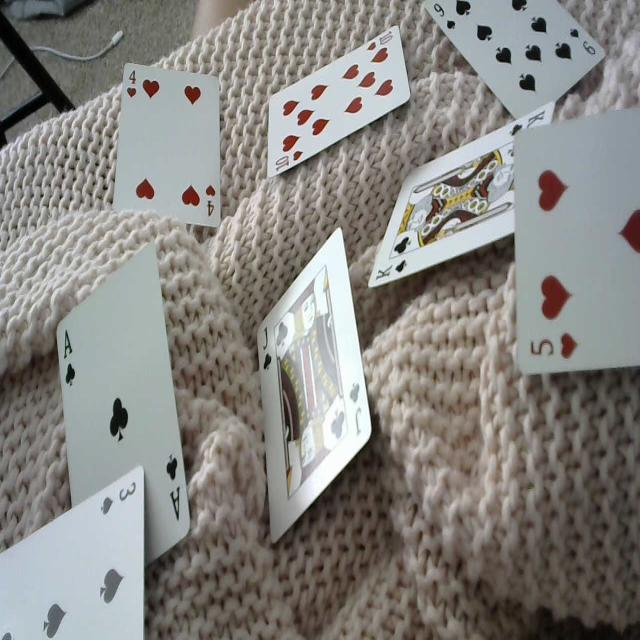10H: (272, 149, 306, 177), (366, 28, 394, 54)
4H: (205, 180, 217, 218), (126, 66, 138, 100)
4S: (99, 480, 139, 518)
5H: (524, 326, 582, 361)
9S: (568, 19, 600, 61), (432, 0, 460, 35)
AC: (165, 451, 183, 528), (62, 326, 76, 392)
JC: (347, 374, 365, 441), (261, 324, 275, 376)
KC: (506, 108, 548, 138), (372, 257, 412, 283)
